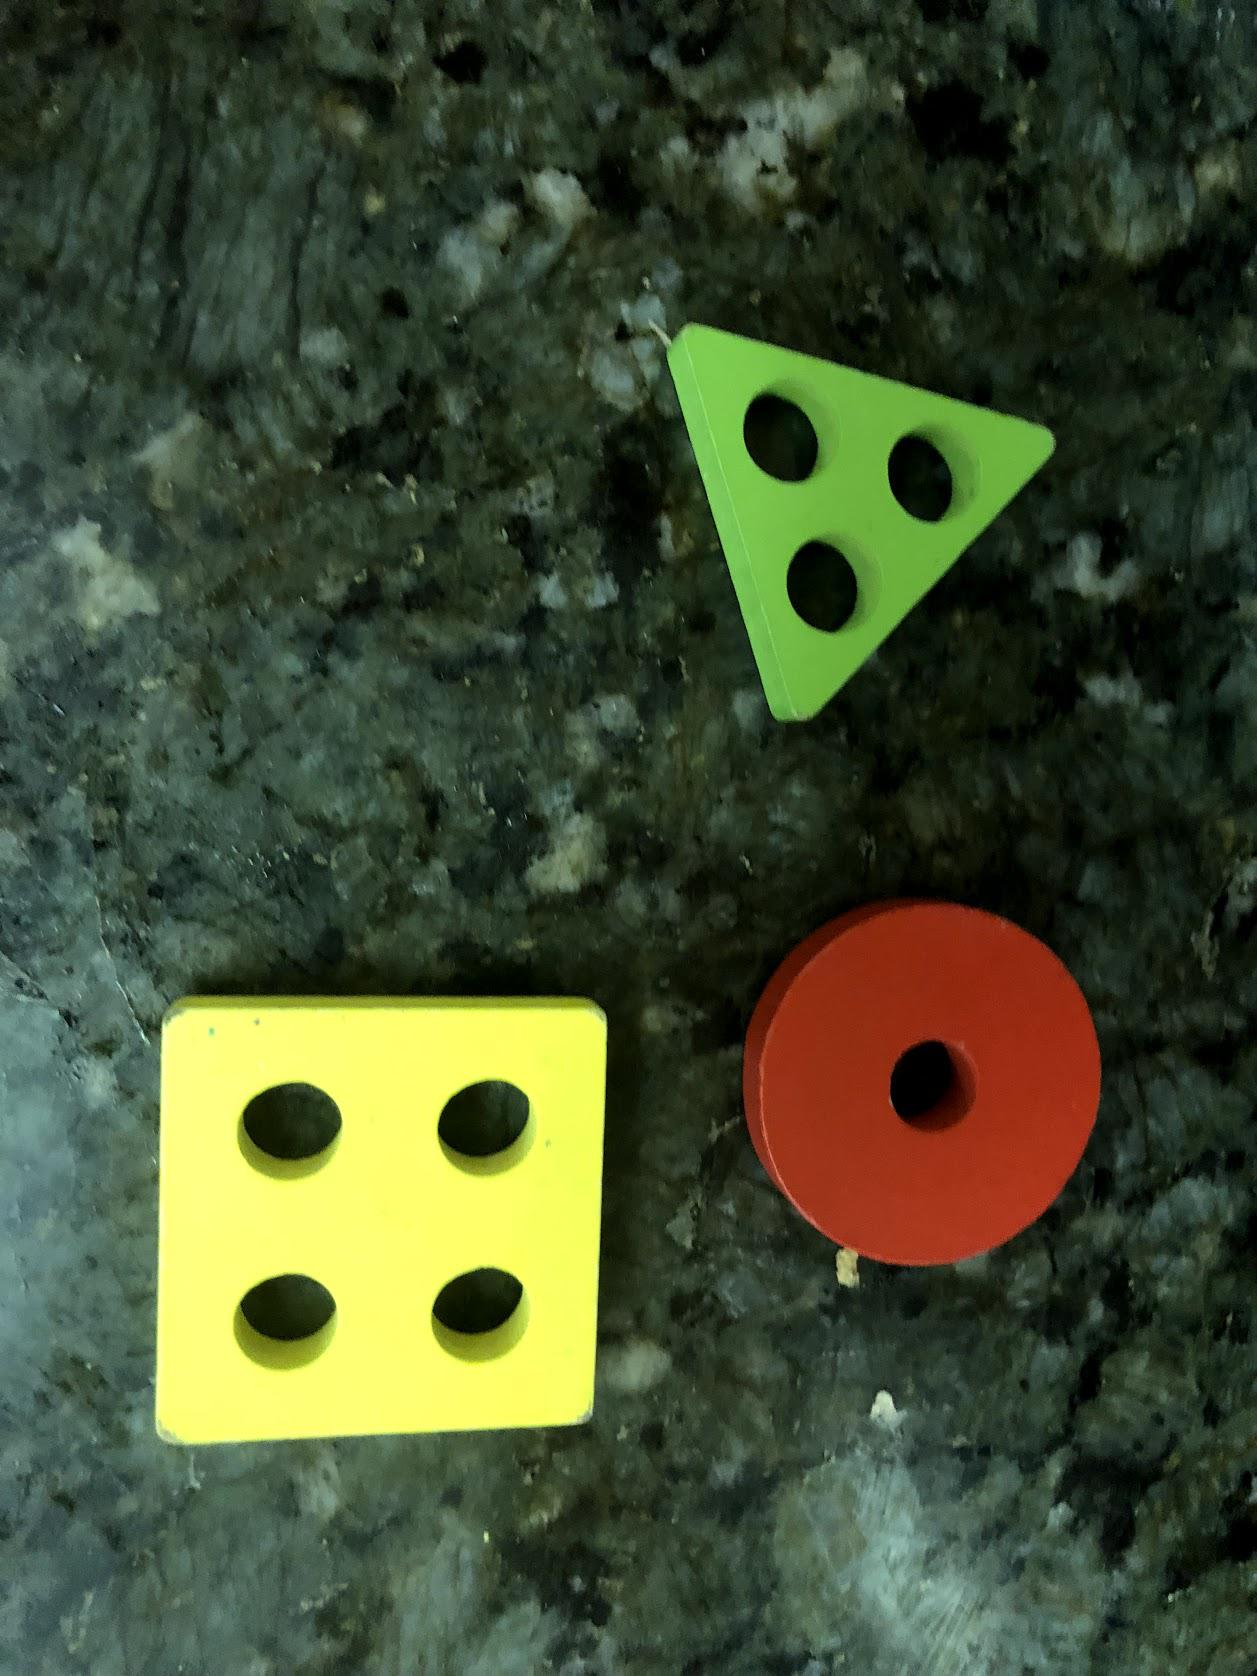Circle: (751, 903, 1112, 1270)
Square: (149, 1002, 602, 1438)
Triangle: (663, 323, 1062, 728)
